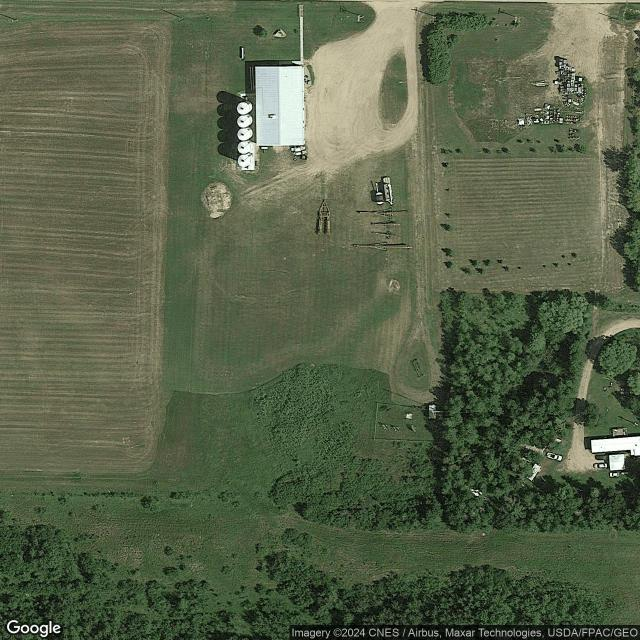Propane: (239, 46, 245, 60)
